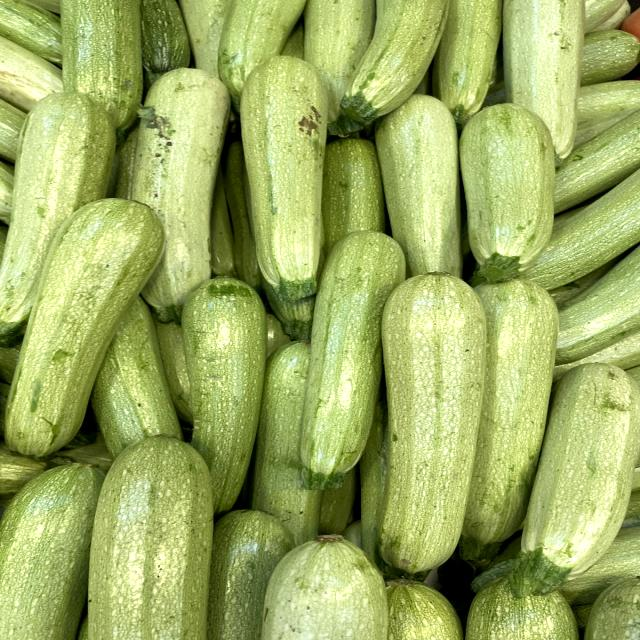zucchini: (0, 189, 191, 468), (360, 264, 515, 580), (278, 217, 426, 499), (233, 51, 356, 333), (441, 101, 571, 283)
